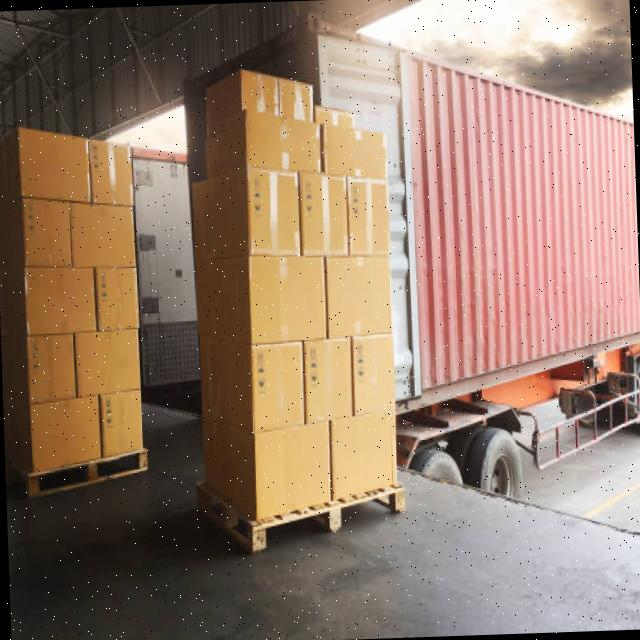Wooden-Pallets: (193, 472, 412, 557), (22, 431, 155, 510)
